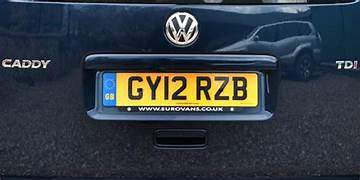number_plate: (101, 71, 261, 111)
